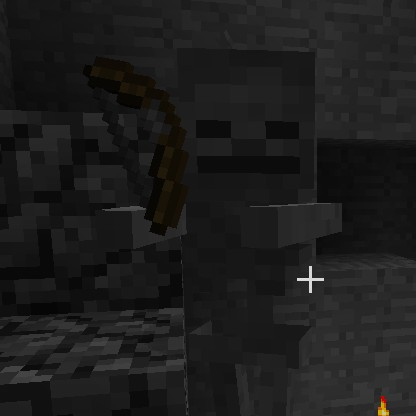skeleton: (162, 33, 333, 261)
